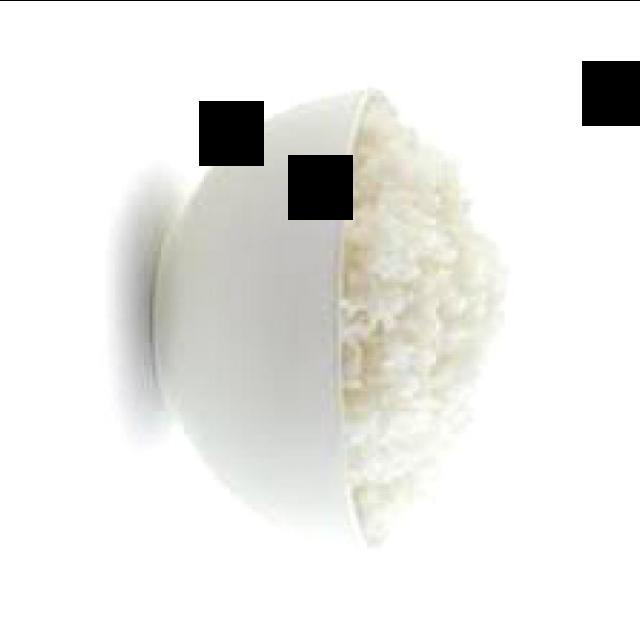rice: (340, 104, 513, 532)
